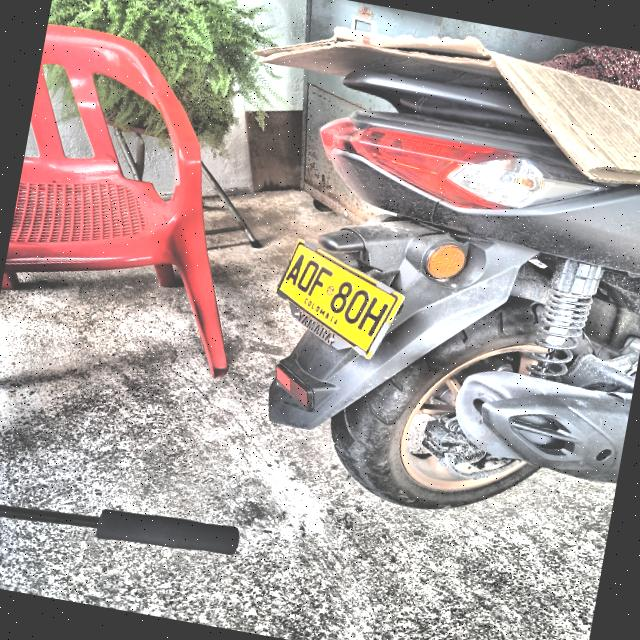plate: (276, 240, 402, 357)
